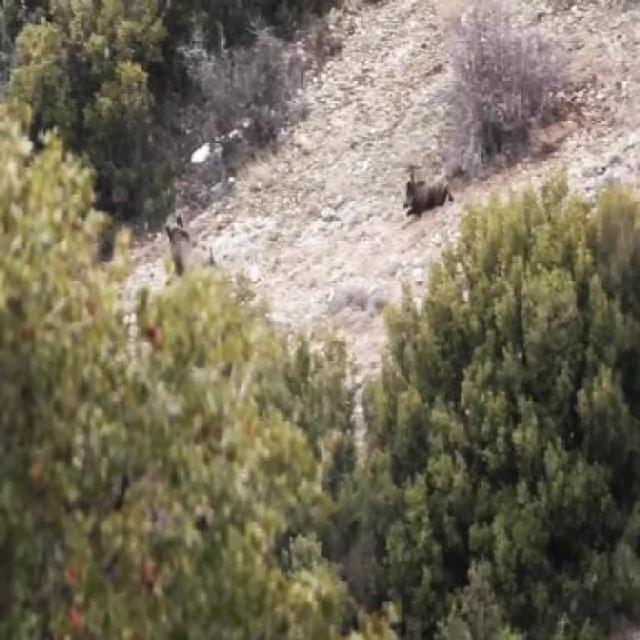pig: (374, 120, 463, 228)
